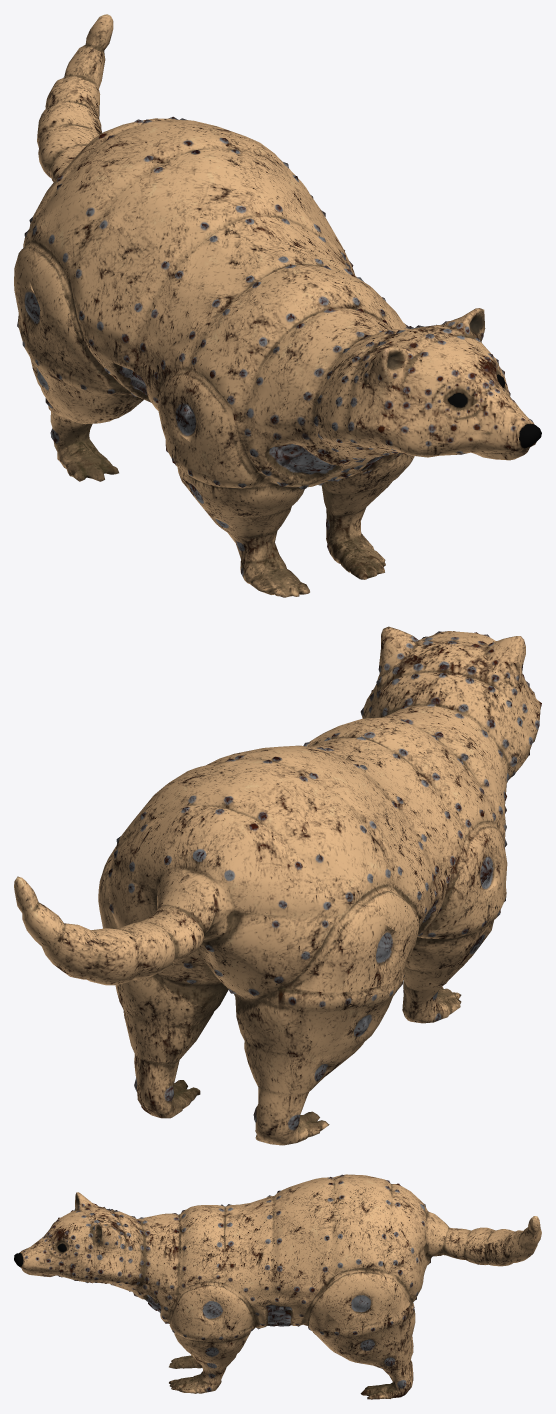
The model's file is MZ4250 - Badger Steel Defender - Bronze Rusty.glb.
3 renders of one model, top to bottom at view 1: azimuth 30°, elevation 25°; view 2: azimuth 150°, elevation 25°; view 3: azimuth 270°, elevation 25°, orthographic. The views are drawn at different scales.
Parts seen in each view (by area): view 1: Badger Steel Defender_low.002; view 2: Badger Steel Defender_low.002; view 3: Badger Steel Defender_low.002.
Boxes of the visible parts, box(x1,y1,x2,y2) form: Badger Steel Defender_low.002: box(14, 14, 541, 597); Badger Steel Defender_low.002: box(14, 626, 541, 1145); Badger Steel Defender_low.002: box(14, 1174, 541, 1399).
Size of the model in its own units: 0.1253 by 0.1423 by 0.3495.
1 material, 1 textured.
